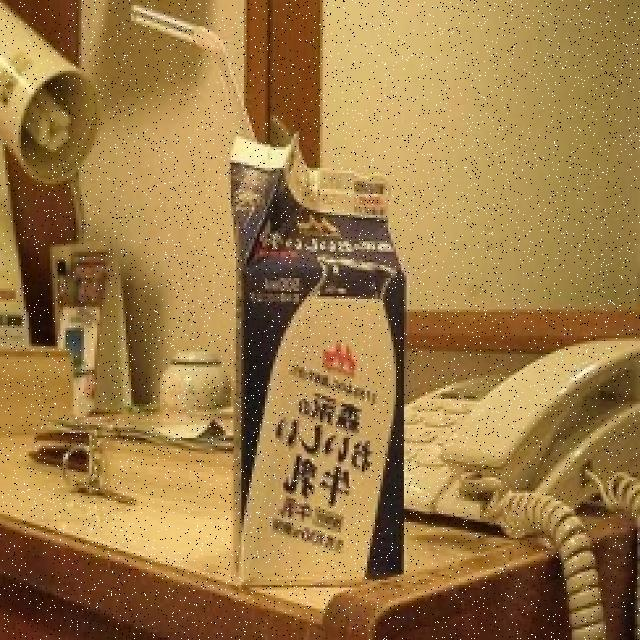box: (207, 161, 409, 607)
